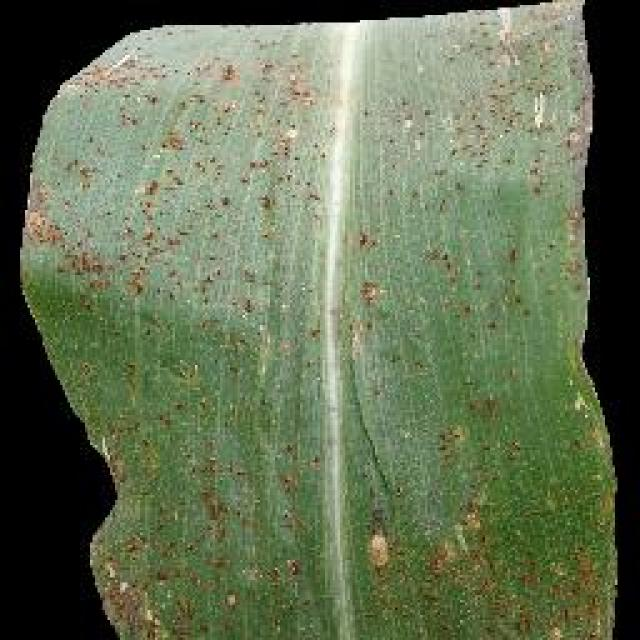Corn Common Rust: (170, 80, 560, 597)
